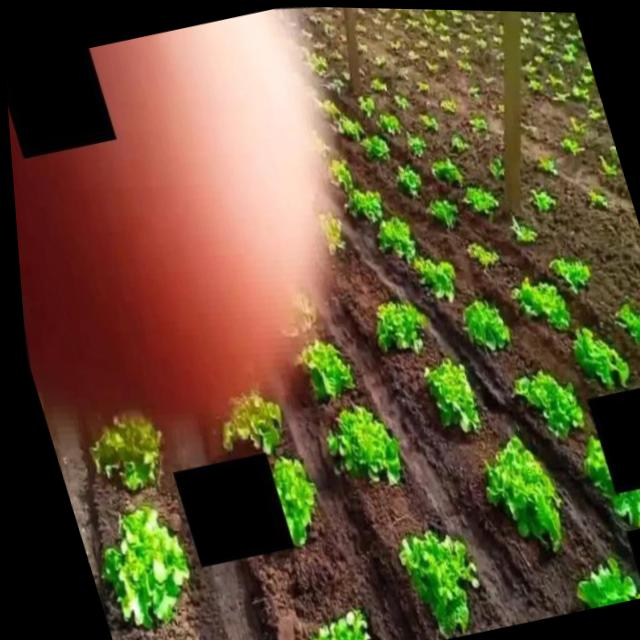Baby: (425, 357, 481, 431), (513, 278, 571, 330), (376, 300, 424, 351), (464, 299, 510, 349), (467, 242, 500, 268)
Mature: (486, 436, 563, 549)
